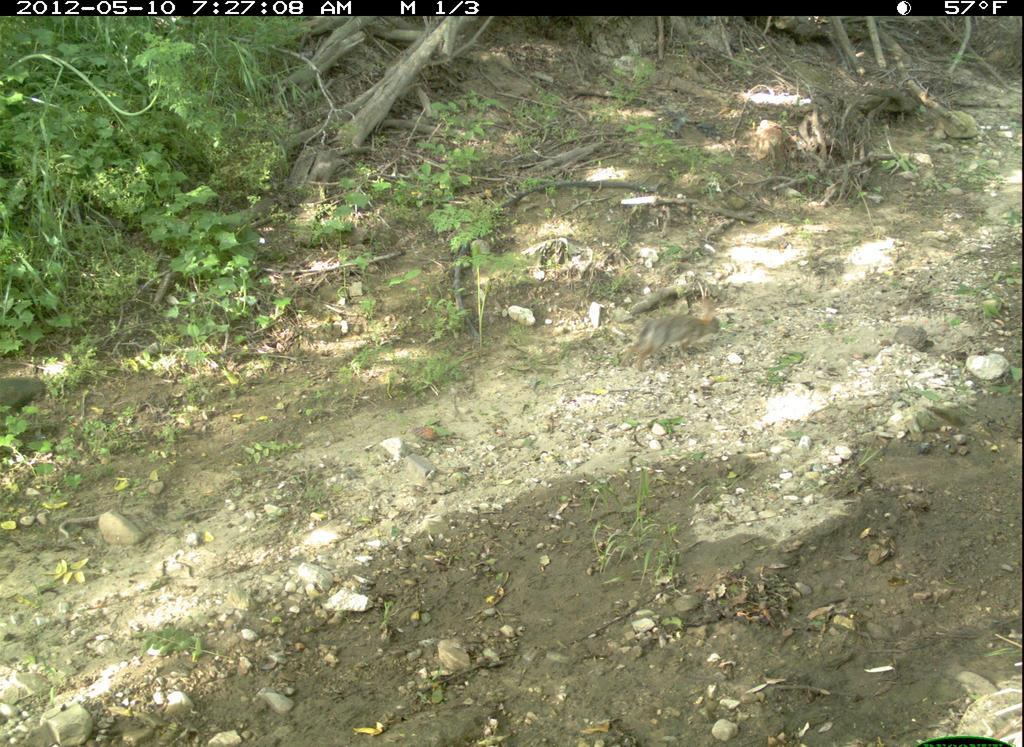rabbit: (616, 291, 726, 379)
